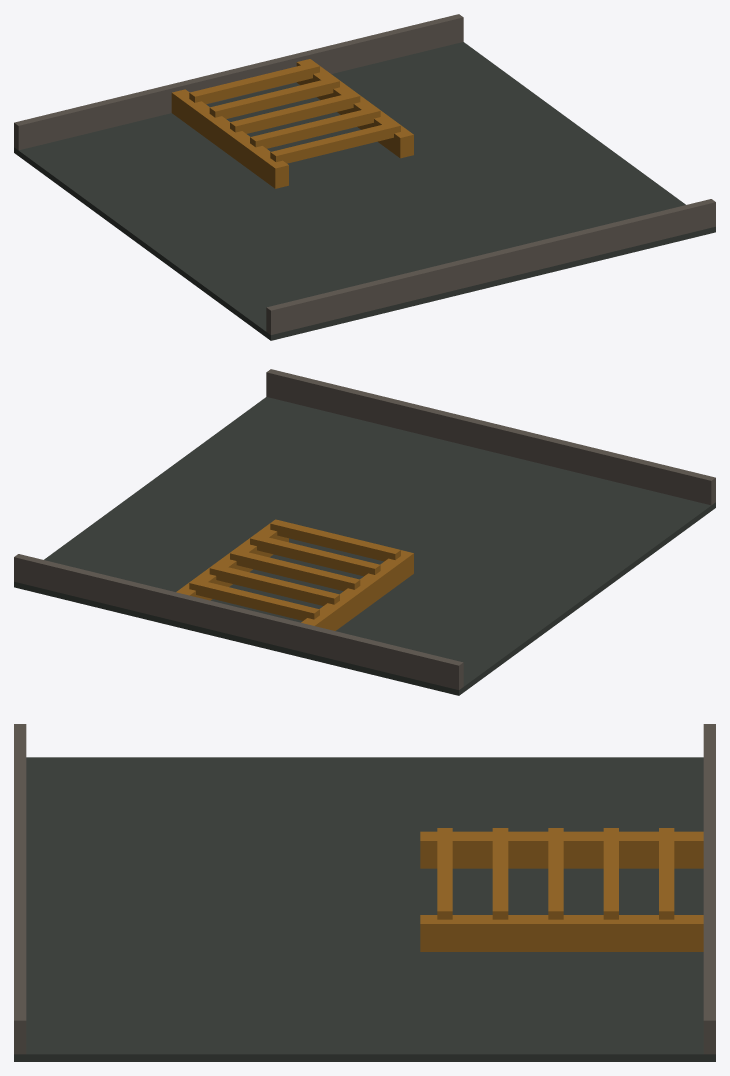
Rendered from hatch_well.obj.
The picture shows the model from 3 angles, top to bottom: view 1: azimuth 30°, elevation 25°; view 2: azimuth 150°, elevation 25°; view 3: azimuth 270°, elevation 25°; orthographic projection. The views are drawn at different scales.
Visible parts, largest first — view 1: source_component_000, source_component_001, source_component_002, source_component_003, source_component_008, source_component_005, source_component_006, source_component_009, source_component_007, source_component_004; view 2: source_component_000, source_component_001, source_component_002, source_component_003, source_component_005, source_component_007, source_component_008, source_component_009, source_component_006, source_component_004; view 3: source_component_000, source_component_004, source_component_003, source_component_001, source_component_002, source_component_006, source_component_005, source_component_007, source_component_008, source_component_009.
Boxes of the visible parts, box(x1,y1,x2,y2) form: source_component_000: box(14, 42, 715, 340); source_component_001: box(266, 199, 715, 334); source_component_002: box(14, 14, 463, 150); source_component_003: box(171, 89, 288, 188); source_component_008: box(209, 77, 339, 118); source_component_005: box(270, 121, 400, 163); source_component_006: box(250, 107, 380, 148); source_component_009: box(189, 62, 319, 104); source_component_007: box(230, 92, 360, 133); source_component_004: box(296, 59, 413, 158); source_component_000: box(14, 397, 715, 695); source_component_001: box(266, 369, 715, 505); source_component_002: box(14, 554, 463, 689); source_component_003: box(301, 550, 413, 630); source_component_005: box(270, 519, 400, 561); source_component_007: box(230, 549, 360, 591); source_component_008: box(209, 564, 339, 605); source_component_009: box(189, 579, 319, 620); source_component_006: box(250, 534, 380, 576); source_component_004: box(176, 519, 288, 600); source_component_000: box(14, 757, 715, 1061); source_component_004: box(420, 915, 703, 951); source_component_003: box(420, 831, 703, 868); source_component_001: box(14, 724, 26, 1054); source_component_002: box(703, 724, 715, 1054); source_component_006: box(492, 828, 508, 919); source_component_005: box(437, 828, 452, 919); source_component_007: box(548, 828, 563, 919); source_component_008: box(603, 828, 618, 919); source_component_009: box(659, 828, 674, 919).
Size of the model in its own units: 2.28 by 0.158 by 2.28.
